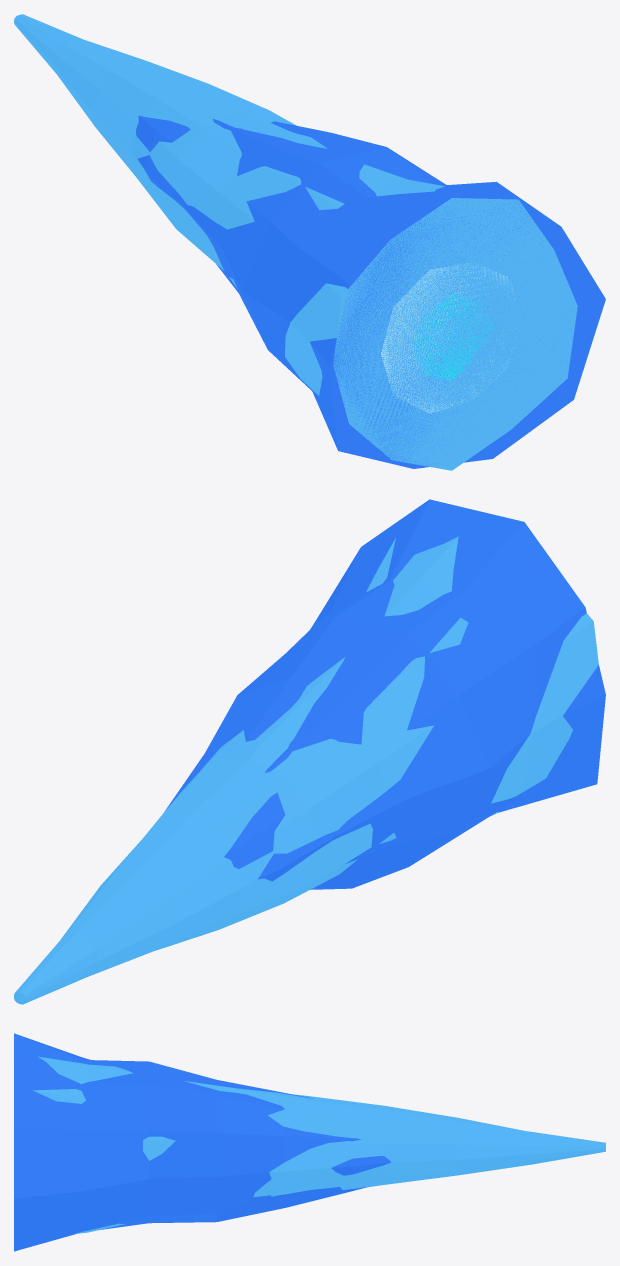
The model's file is afterburner_main.glb.
The picture shows the model from 3 angles, top to bottom: view 1: azimuth 30°, elevation 25°; view 2: azimuth 150°, elevation 25°; view 3: azimuth 270°, elevation 25°; orthographic projection. The views are drawn at different scales.
Visible parts, largest first — view 1: afterburner_main; view 2: afterburner_main; view 3: afterburner_main.
Part boxes in pixels (x1,y1,x2,y2): afterburner_main: (14,14,605,470); afterburner_main: (14,499,605,1004); afterburner_main: (14,1033,605,1251).
Bounding box in the file's own units: 0.8664 × 0.8359 × 2.35.
